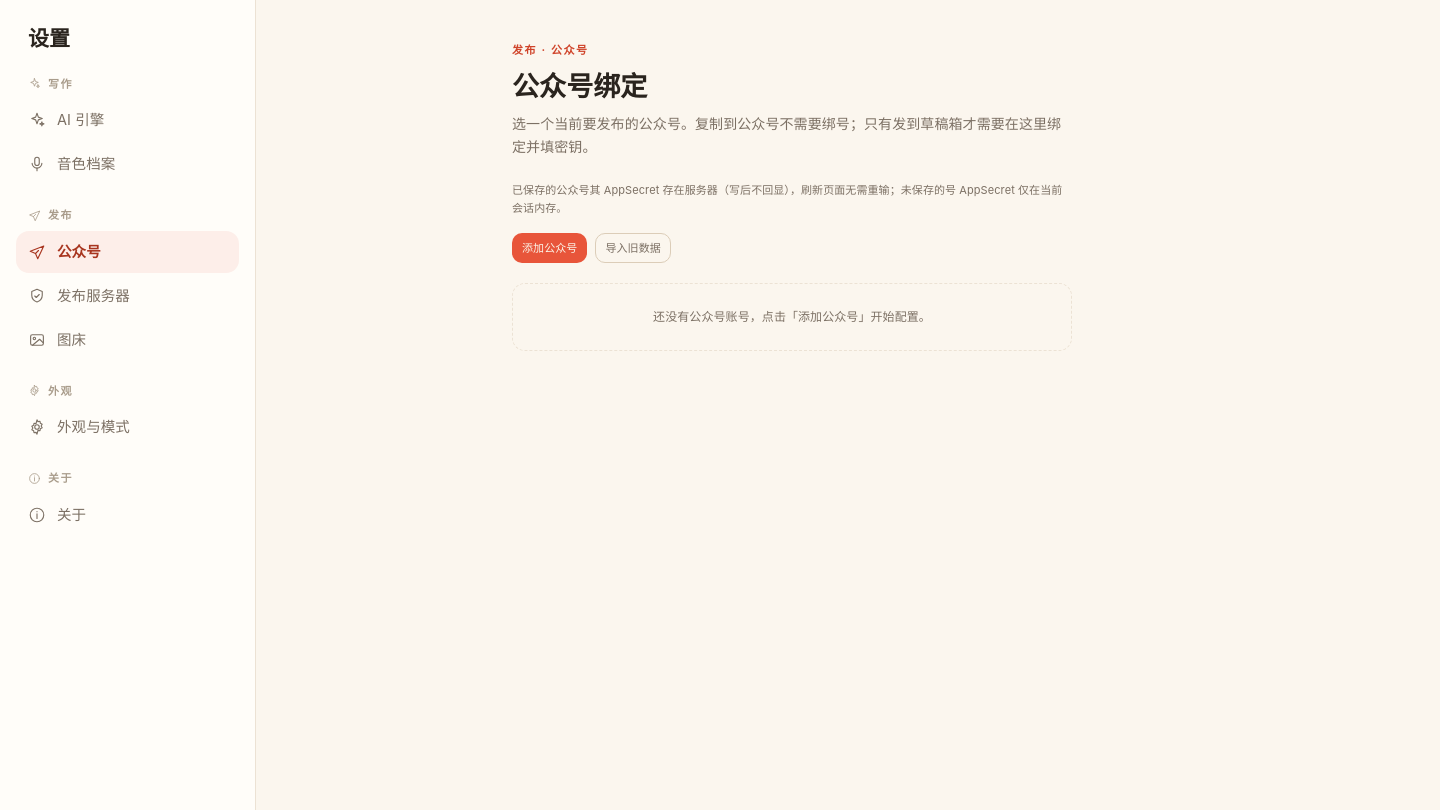
SettingsSurface WeChat section › renders 图床 nav entry and section
The width and height of the screenshot is (1440, 810).
What coordinates should you click on to do the following:
click the button "图床"
I would click on:
 (128, 340)
Its box is [16,318,239,360].
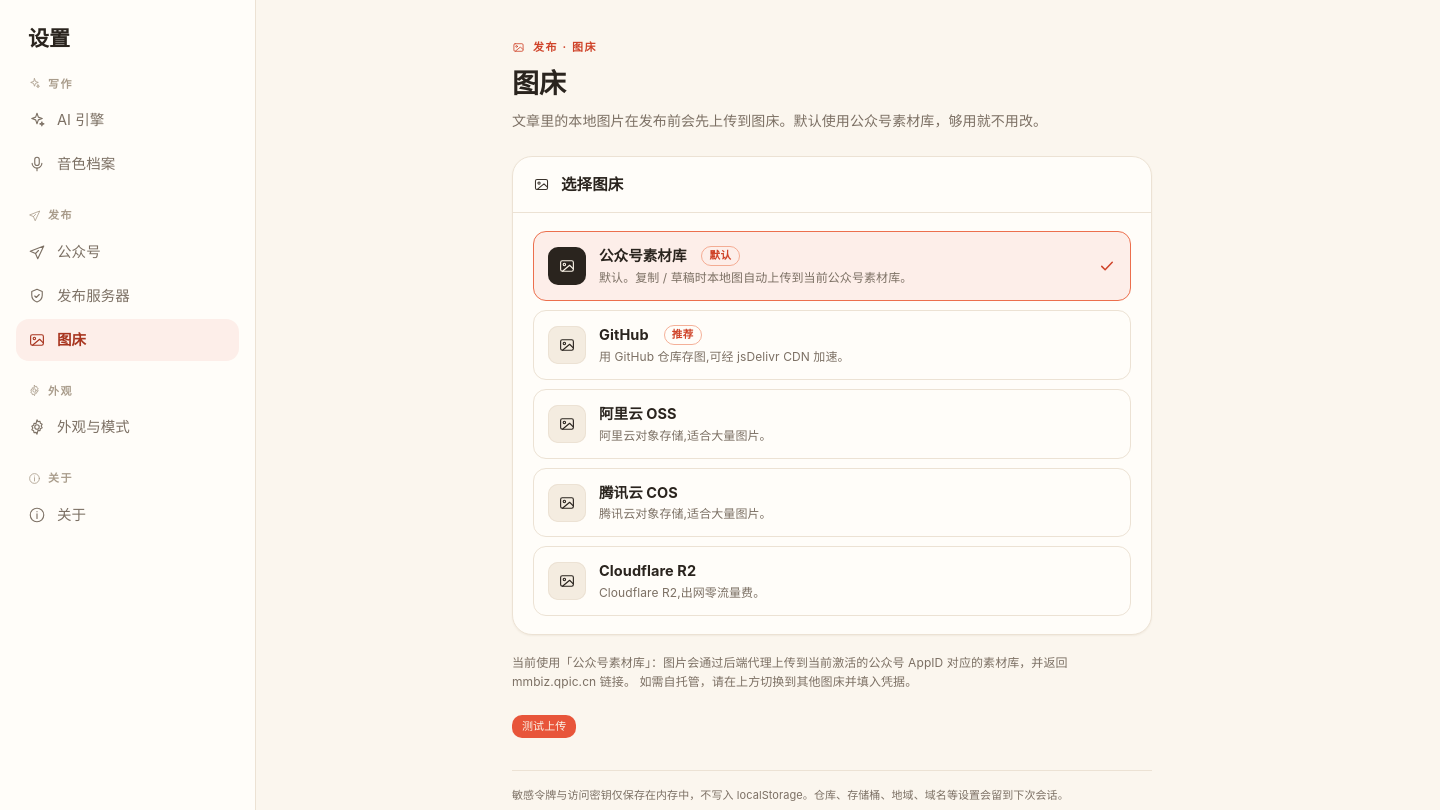
Now the element with test id "imagehost-section" is shown, box [512,36,1152,804]
